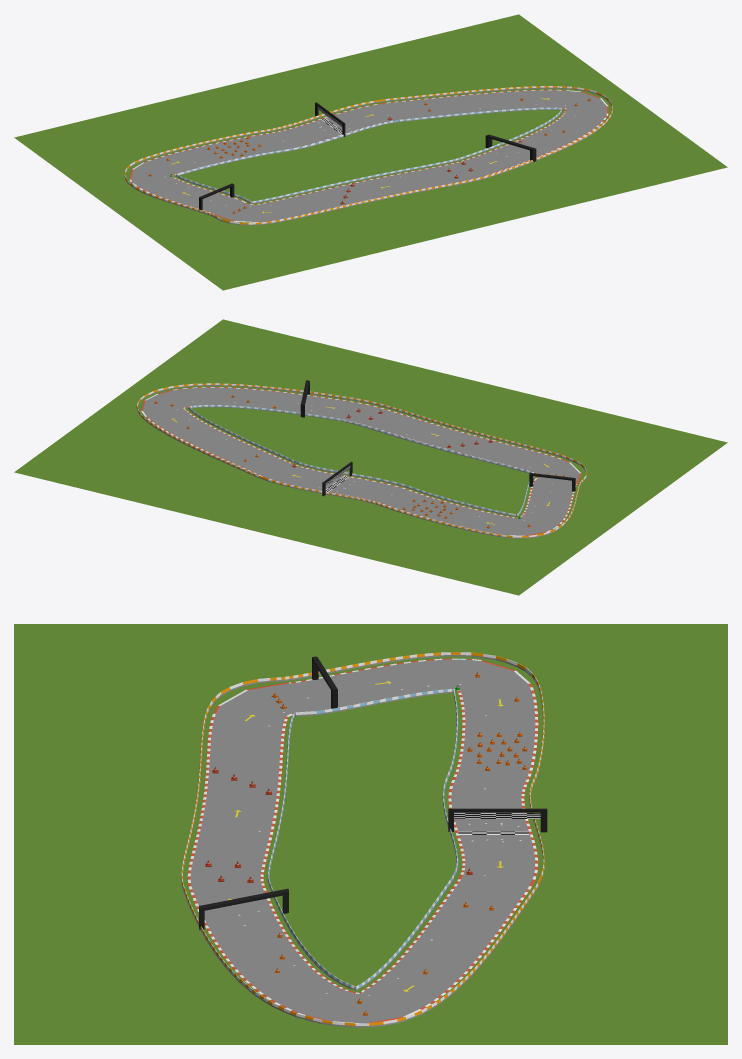
File: basic-track4.glb
3 renders of one model, top to bottom at view 1: azimuth 30°, elevation 25°; view 2: azimuth 150°, elevation 25°; view 3: azimuth 270°, elevation 25°, orthographic. The views are drawn at different scales.
Parts seen in each view (by area): view 1: ground, road, outer-fence, inner-fence; view 2: ground, road, outer-fence, inner-fence; view 3: ground, road, outer-fence, inner-fence, goal, checkpoint1.
Boxes of the visible parts, left/top/right/bottom form: ground: left=14, top=14, right=727, bottom=290; road: left=129, top=89, right=608, bottom=222; outer-fence: left=124, top=86, right=612, bottom=225; inner-fence: left=176, top=107, right=562, bottom=203; ground: left=14, top=319, right=727, bottom=595; road: left=141, top=387, right=581, bottom=536; outer-fence: left=136, top=383, right=587, bottom=538; inner-fence: left=188, top=405, right=534, bottom=516; ground: left=14, top=624, right=727, bottom=1044; road: left=187, top=658, right=538, bottom=1023; outer-fence: left=181, top=652, right=544, bottom=1027; inner-fence: left=267, top=689, right=458, bottom=990; goal: left=448, top=808, right=547, bottom=832; checkpoint1: left=199, top=888, right=288, bottom=930.
Size of the model in its own units: 1055 by 35.65 by 757.
2 materials, 2 textured.
